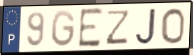9: (25, 11, 46, 48)
E: (77, 7, 105, 50)
G: (50, 9, 77, 49)
J: (134, 7, 158, 47)
O: (160, 7, 186, 45)
Z: (104, 9, 132, 46)
